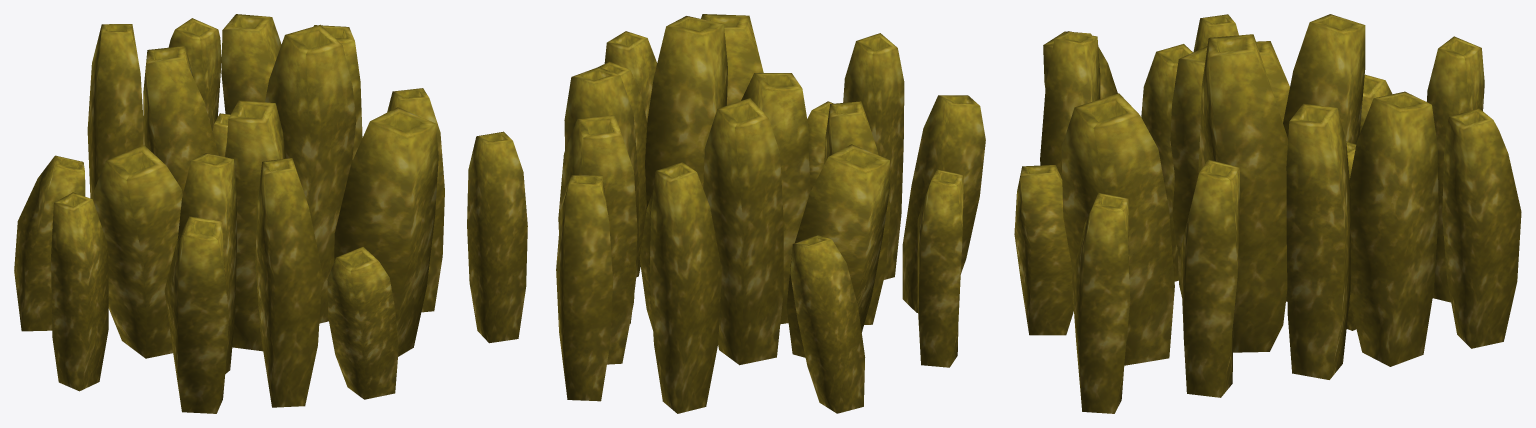
File: SM_SpongeE_LOD1.fbx
3 renders of one model, left to right at view 1: azimuth 30°, elevation 25°; view 2: azimuth 150°, elevation 25°; view 3: azimuth 270°, elevation 25°, orthographic. The views are drawn at different scales.
Parts seen in each view (by area): view 1: SM_SpongeE_LOD1; view 2: SM_SpongeE_LOD1; view 3: SM_SpongeE_LOD1.
Part boxes in pixels (x1,y1,x2,y2): SM_SpongeE_LOD1: [14, 14, 527, 413]; SM_SpongeE_LOD1: [556, 14, 985, 413]; SM_SpongeE_LOD1: [1014, 14, 1521, 413].
Size of the model in its own units: 115 by 76.04 by 117.
